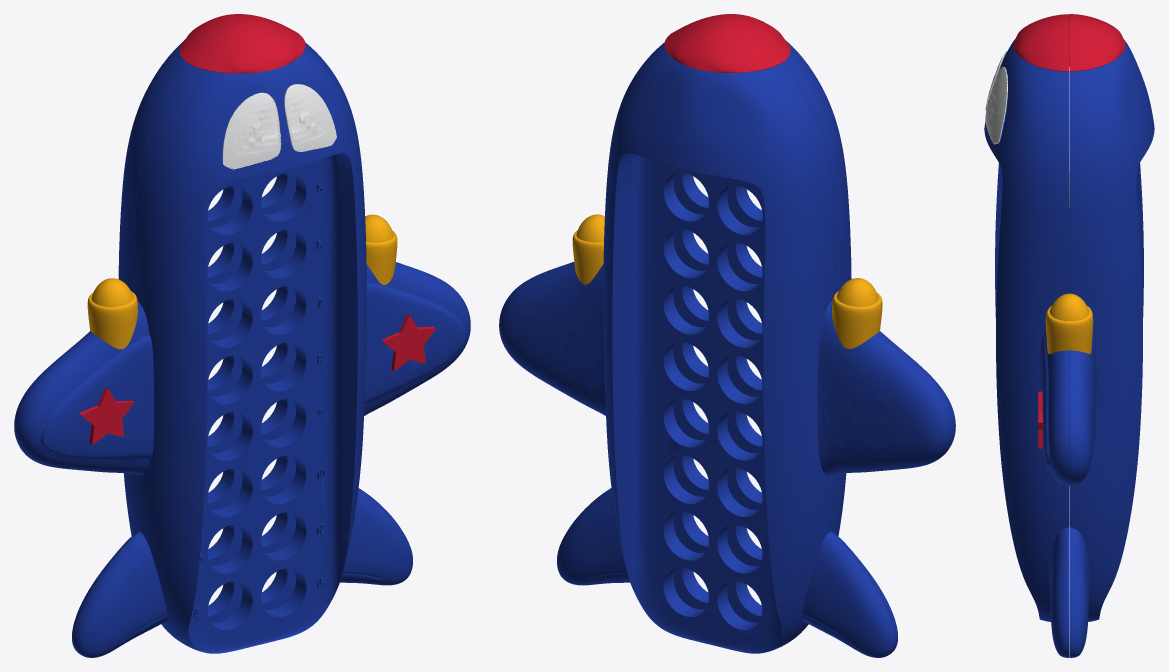
File: aviaoscopia.glb
3 views of the same model, side by side, from view 1: azimuth 30°, elevation 25°; view 2: azimuth 150°, elevation 25°; view 3: azimuth 270°, elevation 25° (orthographic). The views are drawn at different scales.
Parts seen in each view (by area): view 1: aviaoscopia; view 2: aviaoscopia; view 3: aviaoscopia.
Boxes of the visible parts, bbox=[...] form: aviaoscopia: bbox=[14, 14, 470, 657]; aviaoscopia: bbox=[499, 14, 955, 657]; aviaoscopia: bbox=[984, 14, 1154, 657].
Size of the model in its own units: 1.34 by 1.74 by 0.4604.
